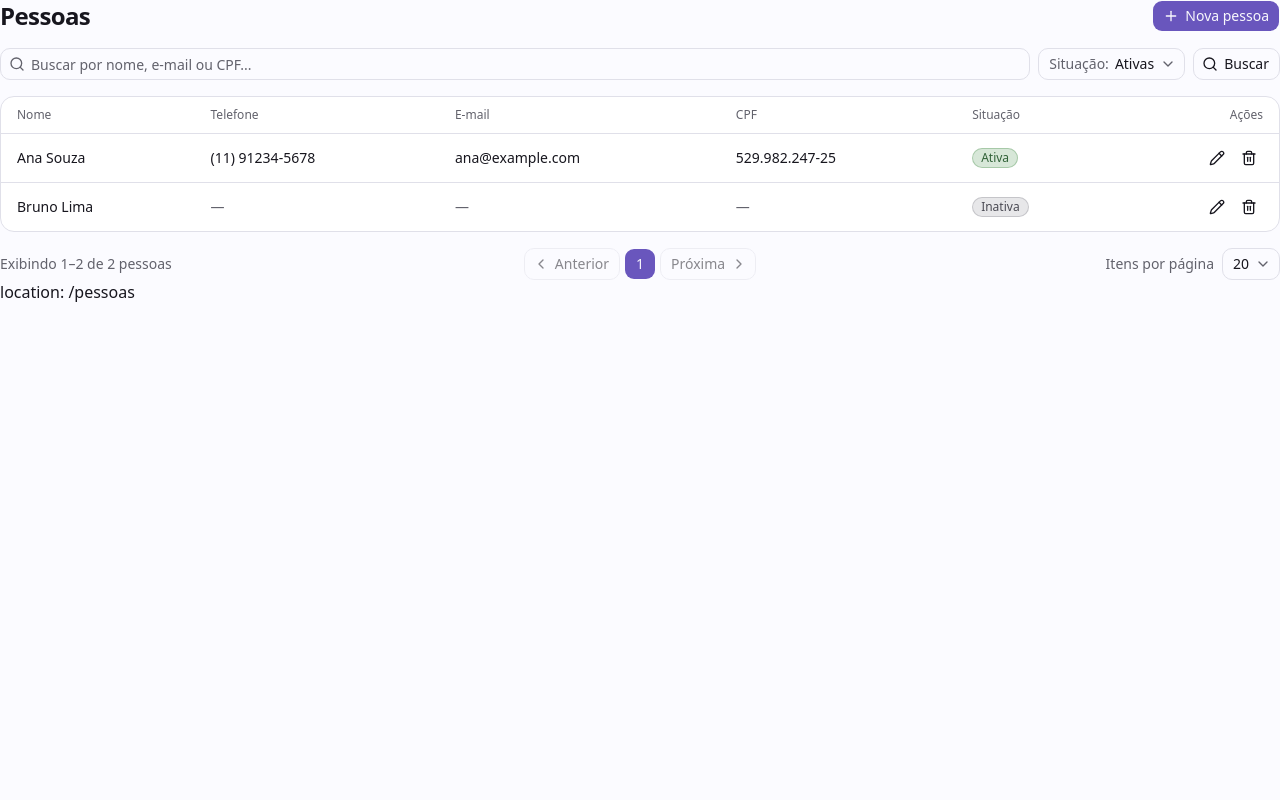
ClientDeletePage › opens the confirmation over the list for the person clicked, naming them
Check: the link "Ana Souza" is shown, box [17,148,85,167]
Click the link named "Excluir Ana Souza" at (1249, 158), box [1241,150,1257,166]
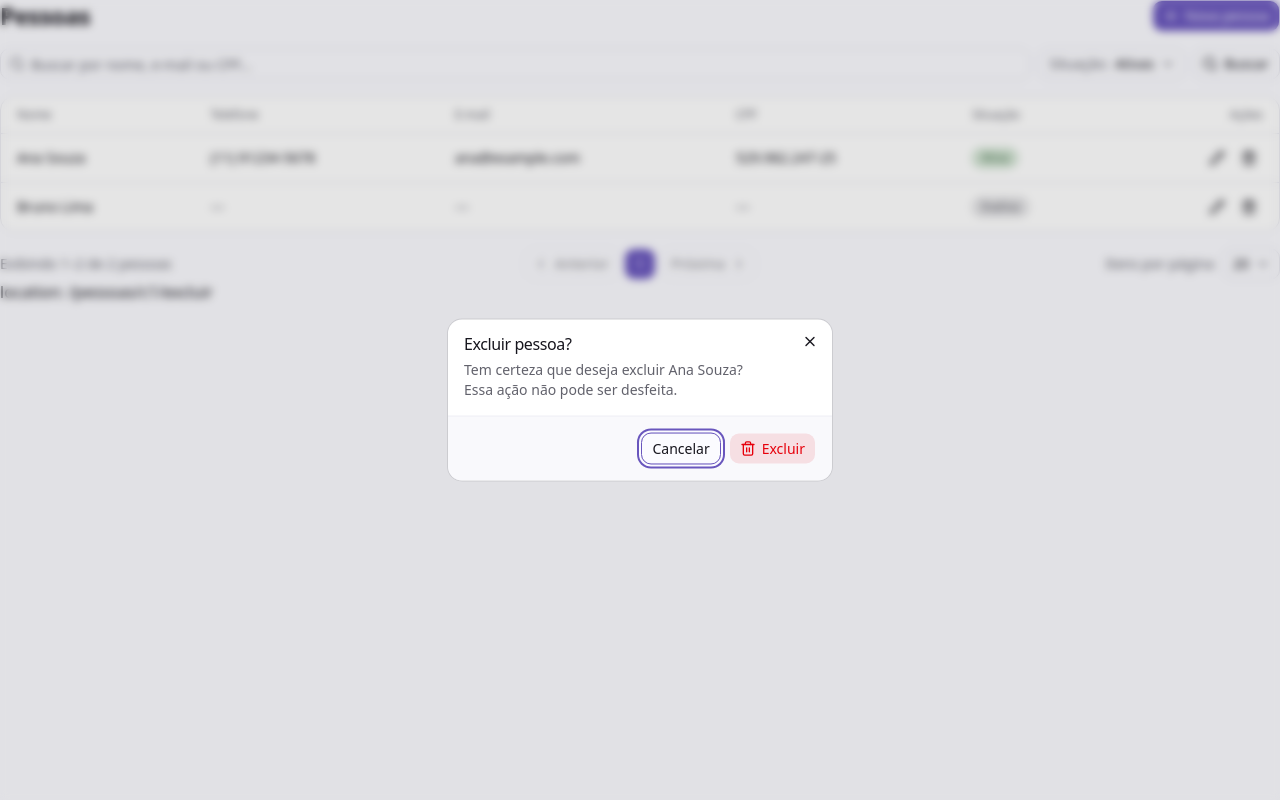
Check: the text "Tem certeza que deseja excluir Ana Souza?" is shown, box [464,360,743,378]
Check: the heading "Excluir pessoa?" is shown, box [464,332,571,354]
Check: the text "Essa ação não pode ser desfeita." is shown, box [464,380,677,398]
